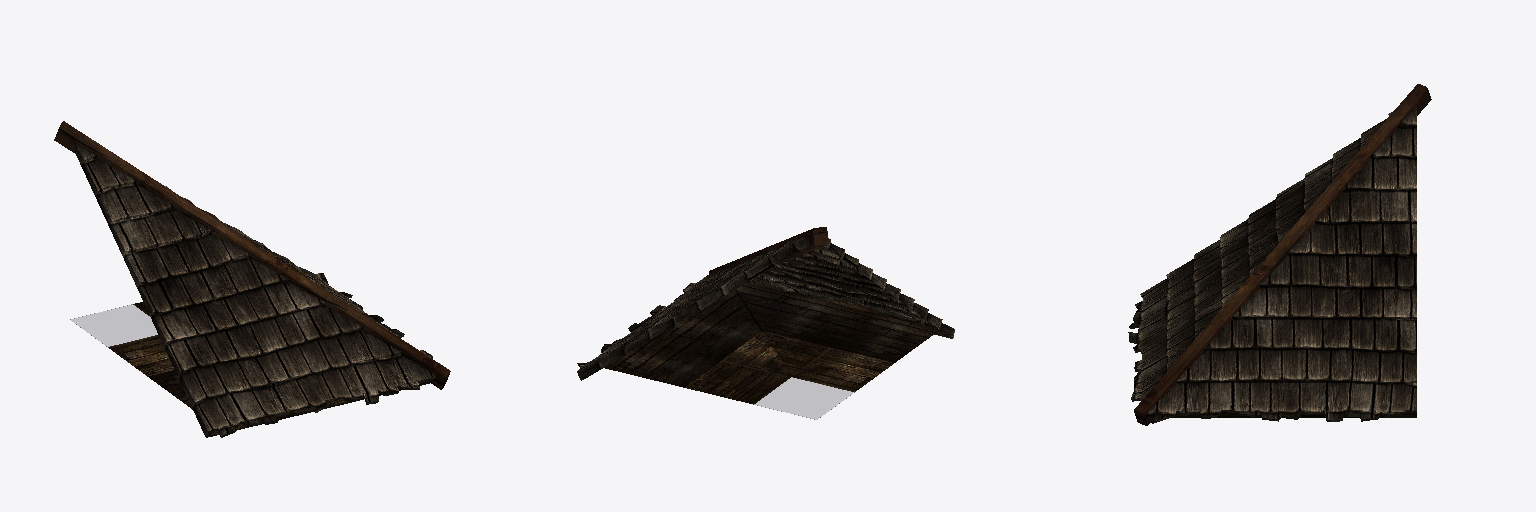
3 renders of one model, left to right at view 1: azimuth 30°, elevation 25°; view 2: azimuth 150°, elevation 25°; view 3: azimuth 270°, elevation 25°, orthographic.
Visible parts, largest first — view 1: Roof001_C01_SC011; view 2: Roof001_C01_SC011; view 3: Roof001_C01_SC011.
Boxes of the visible parts, x1,y1,x2,y2 form: Roof001_C01_SC011: [54, 121, 450, 437]; Roof001_C01_SC011: [577, 227, 954, 419]; Roof001_C01_SC011: [1128, 84, 1431, 425].
Bounding box in the file's own units: 197 × 159 × 197.
1 materials, 1 textured.